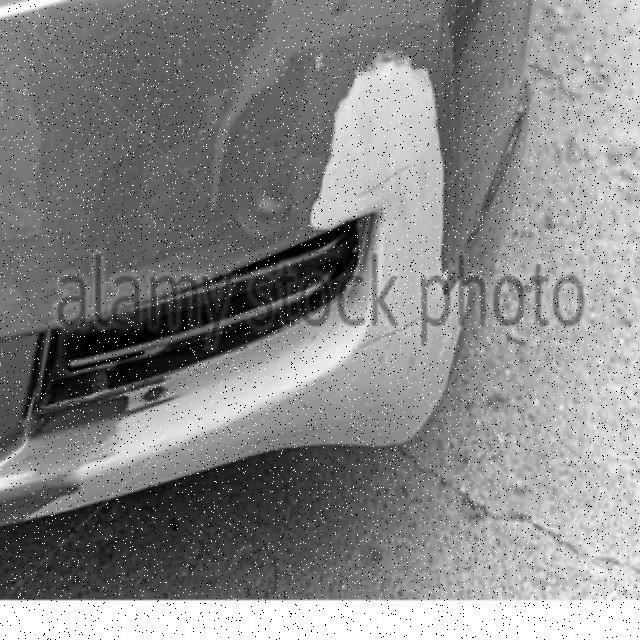front-bumper-dent: (0, 0, 562, 522)
